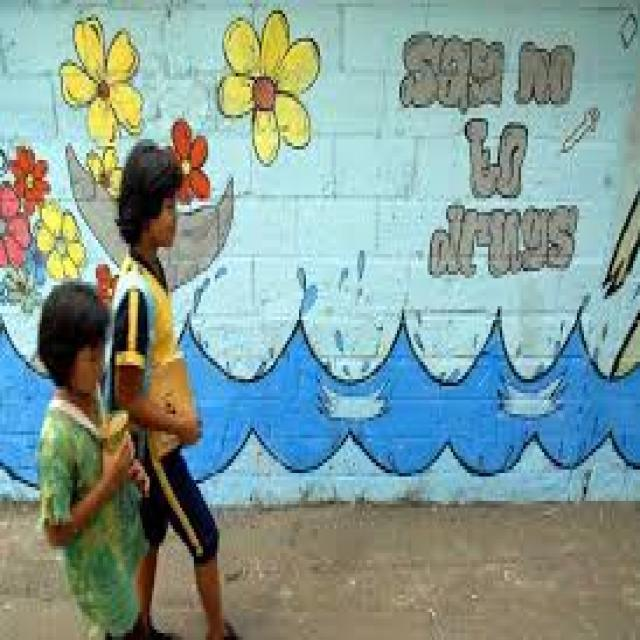-: (0, 322, 640, 492), (0, 13, 334, 298), (398, 28, 602, 278)
